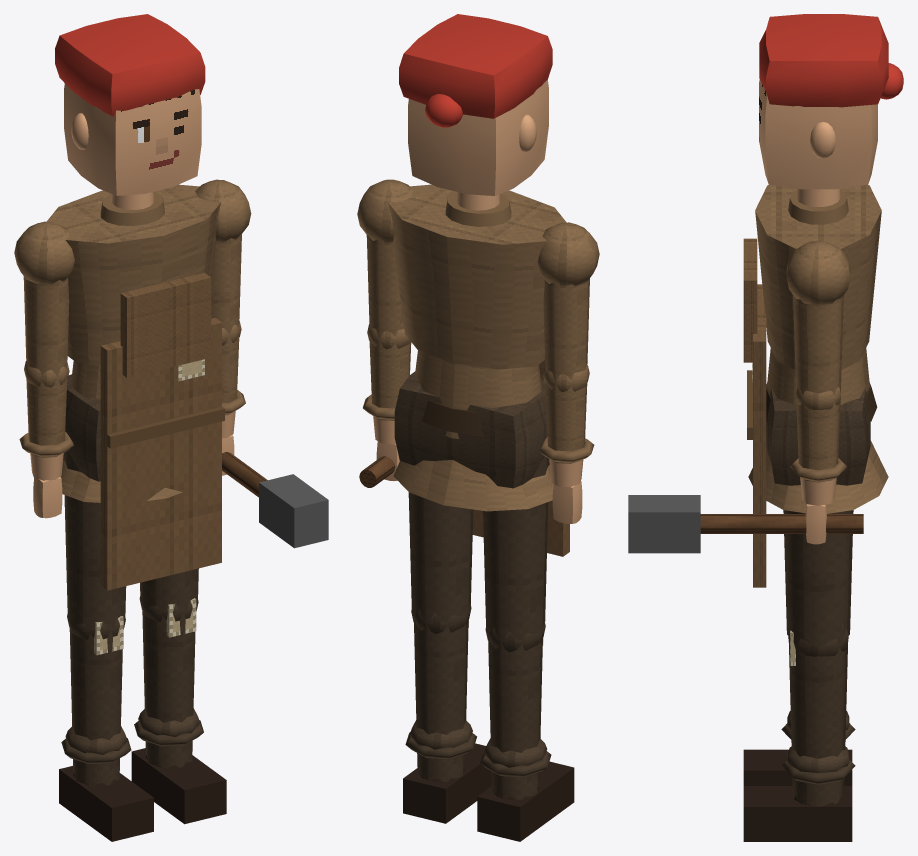
Rendered from carpintero.glb.
3 views of the same model, side by side, from view 1: azimuth 30°, elevation 25°; view 2: azimuth 150°, elevation 25°; view 3: azimuth 270°, elevation 25° (orthographic). The views are drawn at different scales.
Parts seen in each view (by area): view 1: carpintero, object 35, object 38, object 11, object 3, object 1, object 8, object 16, object 33, object 19, object 18, object 26 (+16 smaller); view 2: carpintero, object 38, object 35, object 1, object 9, object 3, object 11, object 8, object 19, object 16, object 18, object 26 (+19 smaller); view 3: carpintero, object 38, object 35, object 9, object 11, object 16, object 26, object 33, object 25, object 32, object 28, object 8 (+10 smaller).
Part boxes in pixels (<box>): carpintero: <box>47,184,224,590</box>; object 35: <box>64,83,201,195</box>; object 38: <box>55,14,205,116</box>; object 11: <box>142,610,195,768</box>; object 3: <box>69,628,122,785</box>; object 1: <box>64,450,126,630</box>; object 8: <box>59,766,153,841</box>; object 16: <box>131,748,226,824</box>; object 33: <box>259,474,328,548</box>; object 19: <box>23,276,69,377</box>; object 18: <box>14,221,74,284</box>; object 26: <box>211,233,241,335</box>; carpintero: <box>388,184,569,556</box>; object 38: <box>399,14,552,118</box>; object 35: <box>408,79,548,195</box>; object 1: <box>483,456,548,640</box>; object 9: <box>408,492,473,622</box>; object 3: <box>488,635,542,799</box>; object 11: <box>413,617,468,781</box>; object 8: <box>477,761,574,841</box>; object 19: <box>543,278,589,381</box>; object 16: <box>403,743,491,823</box>; object 18: <box>537,222,599,286</box>; object 26: <box>366,234,404,338</box>; carpintero: <box>743,184,888,587</box>; object 38: <box>759,14,888,107</box>; object 35: <box>759,79,877,189</box>; object 9: <box>783,510,853,647</box>; object 11: <box>788,641,848,806</box>; object 16: <box>743,786,852,841</box>; object 26: <box>793,295,843,395</box>; object 33: <box>628,495,700,553</box>; object 25: <box>786,240,850,304</box>; object 32: <box>700,514,863,533</box>; object 28: <box>796,396,840,482</box>; object 8: <box>743,749,852,785</box>.
Bounding box in the file's own units: 0.6125 × 1.94 × 0.6228.
Materials: 17 (6 with a texture image).
